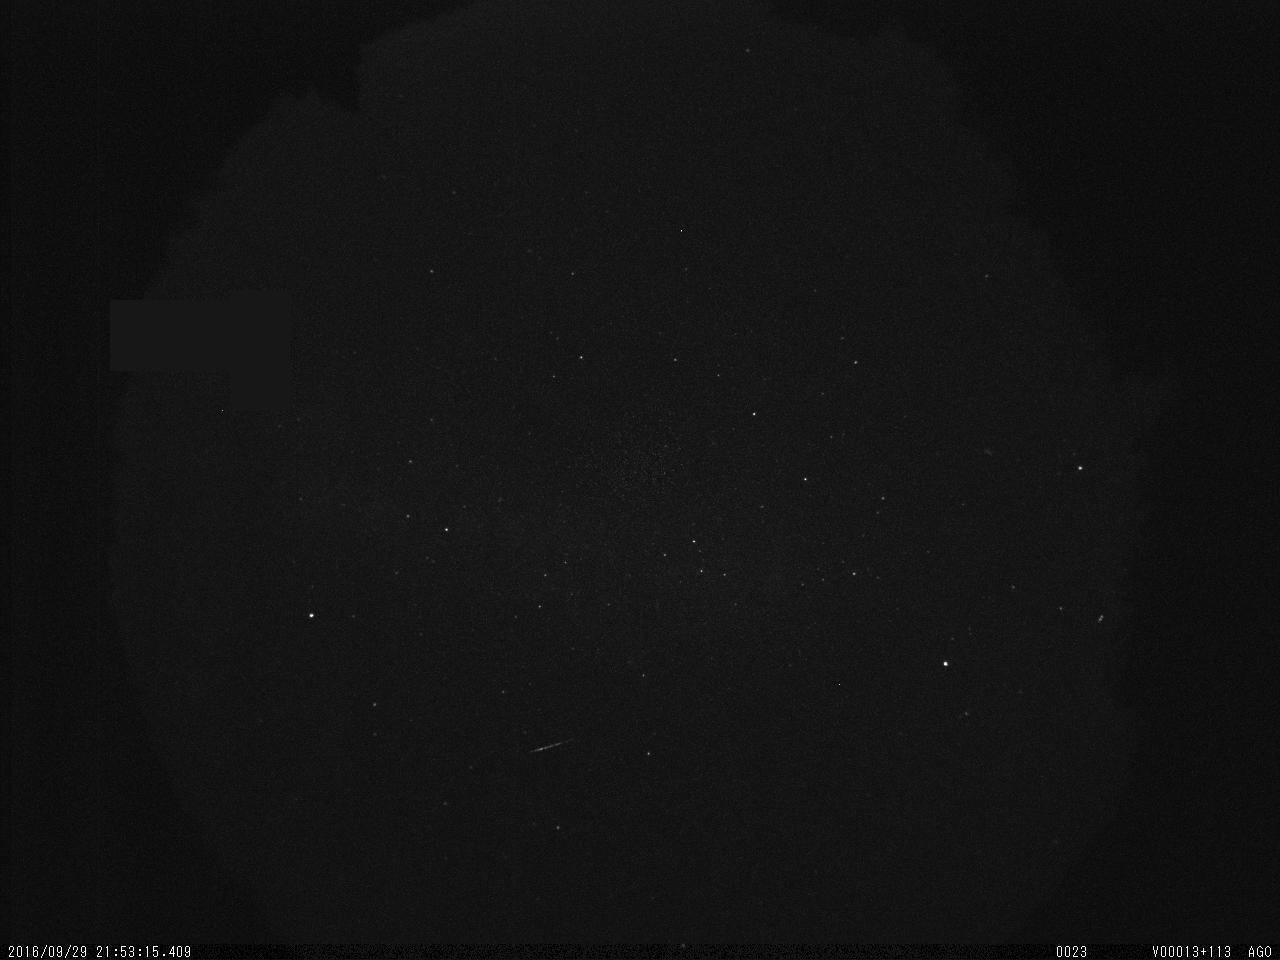meteor: (522, 729, 593, 765)
